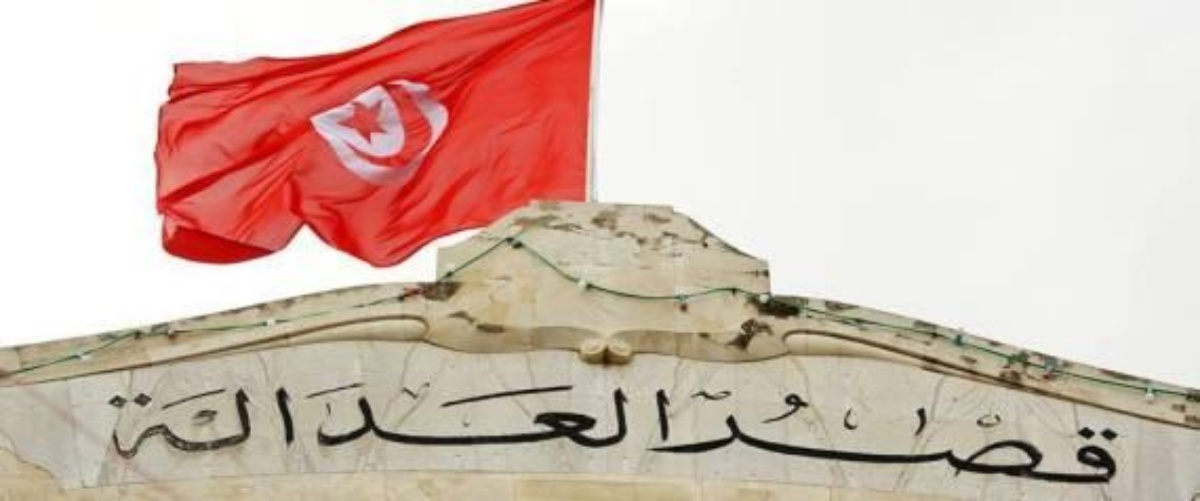text: (769, 388, 784, 497), (785, 388, 800, 497), (801, 388, 816, 497), (817, 388, 832, 497), (833, 388, 848, 497), (849, 388, 864, 497), (865, 388, 880, 497), (881, 388, 896, 497), (897, 388, 912, 497), (913, 388, 928, 497), (929, 388, 944, 497), (945, 388, 960, 497), (961, 388, 976, 497), (977, 388, 992, 497), (993, 388, 1008, 497), (1009, 388, 1024, 497), (1025, 388, 1040, 497), (1041, 388, 1056, 497), (1057, 388, 1072, 497), (1073, 388, 1088, 497), (1089, 388, 1104, 497), (1105, 388, 1120, 497), (1121, 388, 1136, 497), (97, 373, 112, 466), (113, 373, 128, 466), (129, 373, 144, 466), (145, 373, 160, 466), (161, 373, 176, 466), (177, 373, 192, 466), (193, 373, 208, 466), (209, 373, 224, 466), (225, 373, 240, 466), (241, 373, 256, 466), (257, 373, 272, 466), (273, 373, 288, 466), (289, 373, 304, 466), (305, 373, 320, 466), (321, 373, 336, 466), (337, 373, 352, 466), (353, 373, 368, 466), (369, 373, 384, 466), (385, 373, 400, 466), (401, 373, 416, 466), (417, 373, 432, 466), (433, 373, 448, 466), (449, 373, 464, 466), (465, 373, 480, 466), (481, 373, 496, 466), (497, 373, 512, 466), (513, 373, 528, 466), (529, 373, 544, 466), (545, 373, 560, 466), (561, 373, 576, 466), (577, 373, 592, 466), (593, 373, 608, 466), (609, 373, 624, 466), (625, 373, 640, 466), (641, 373, 656, 466), (657, 373, 672, 466), (761, 388, 768, 497), (673, 373, 678, 466), (93, 373, 96, 466), (1137, 388, 1139, 497)
